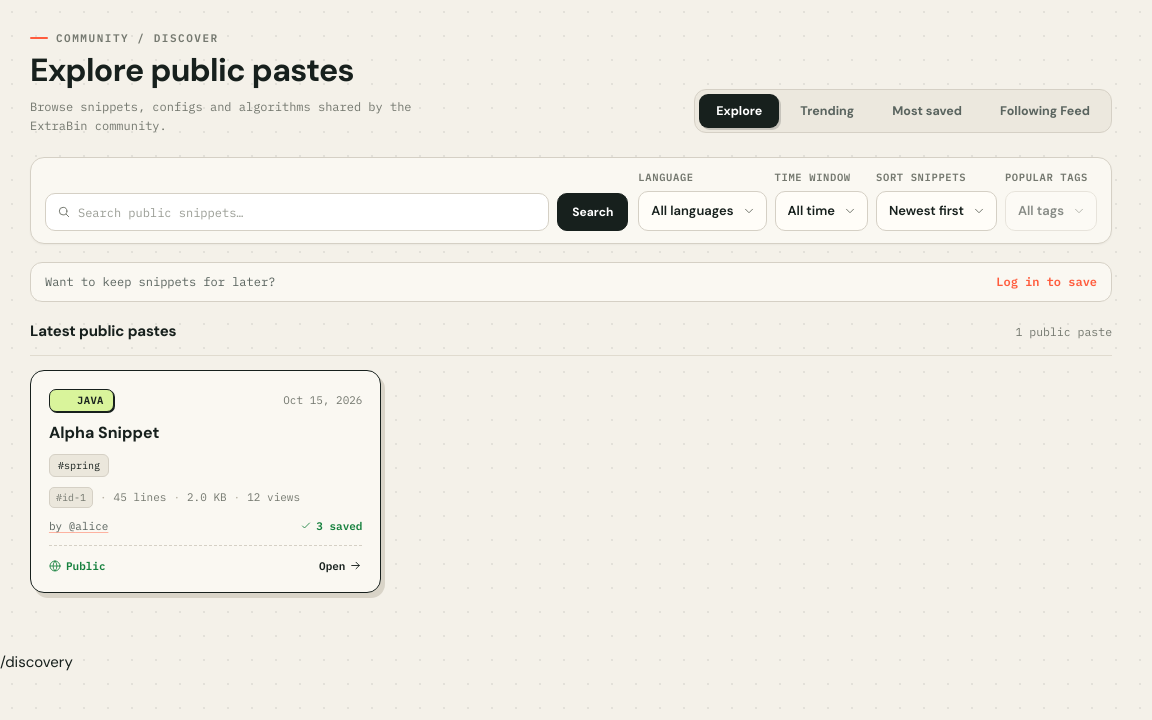
it: Public author profiles & developer discovery › popover_showsHonestEmptyStateWithoutPublicWork
Click the button "by @alice": (79, 526) [49,518,108,534]
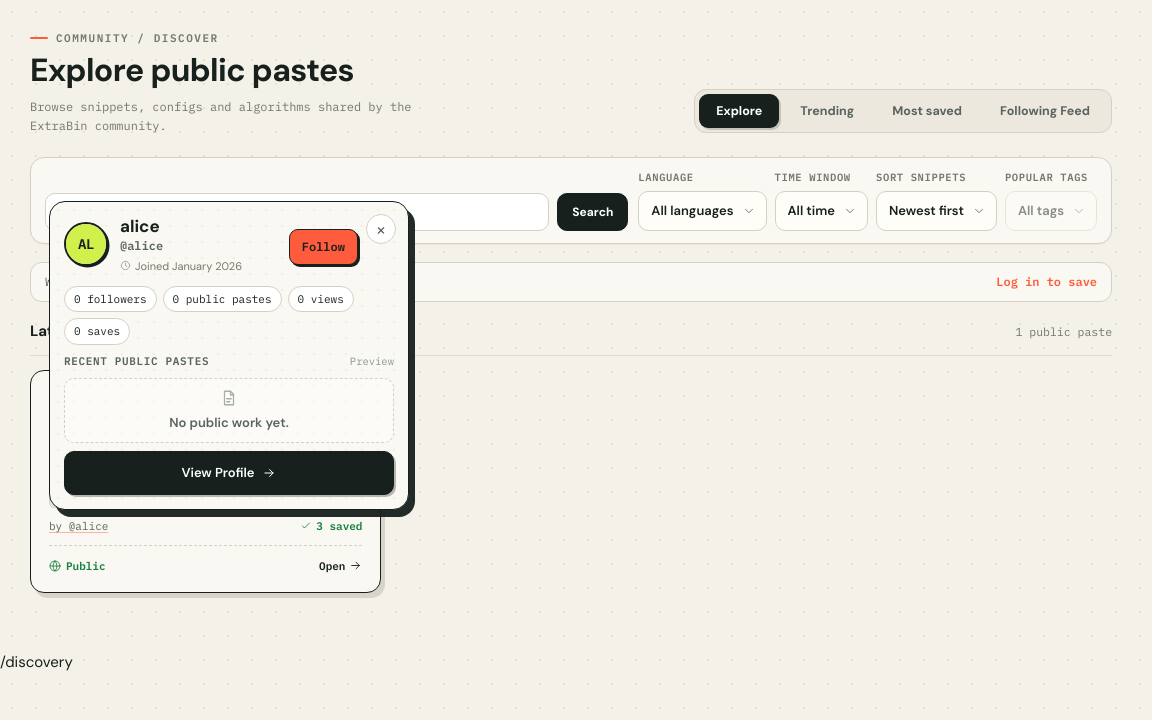
Now the text "No public work yet." is shown, box [169,412,289,432]
